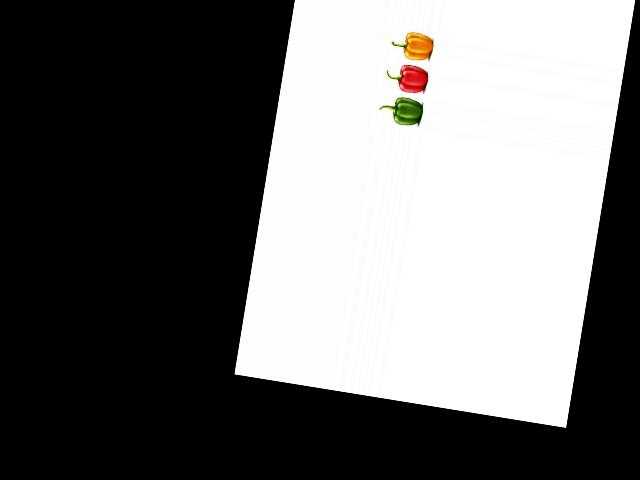bell_pepper: (377, 94, 426, 131)
